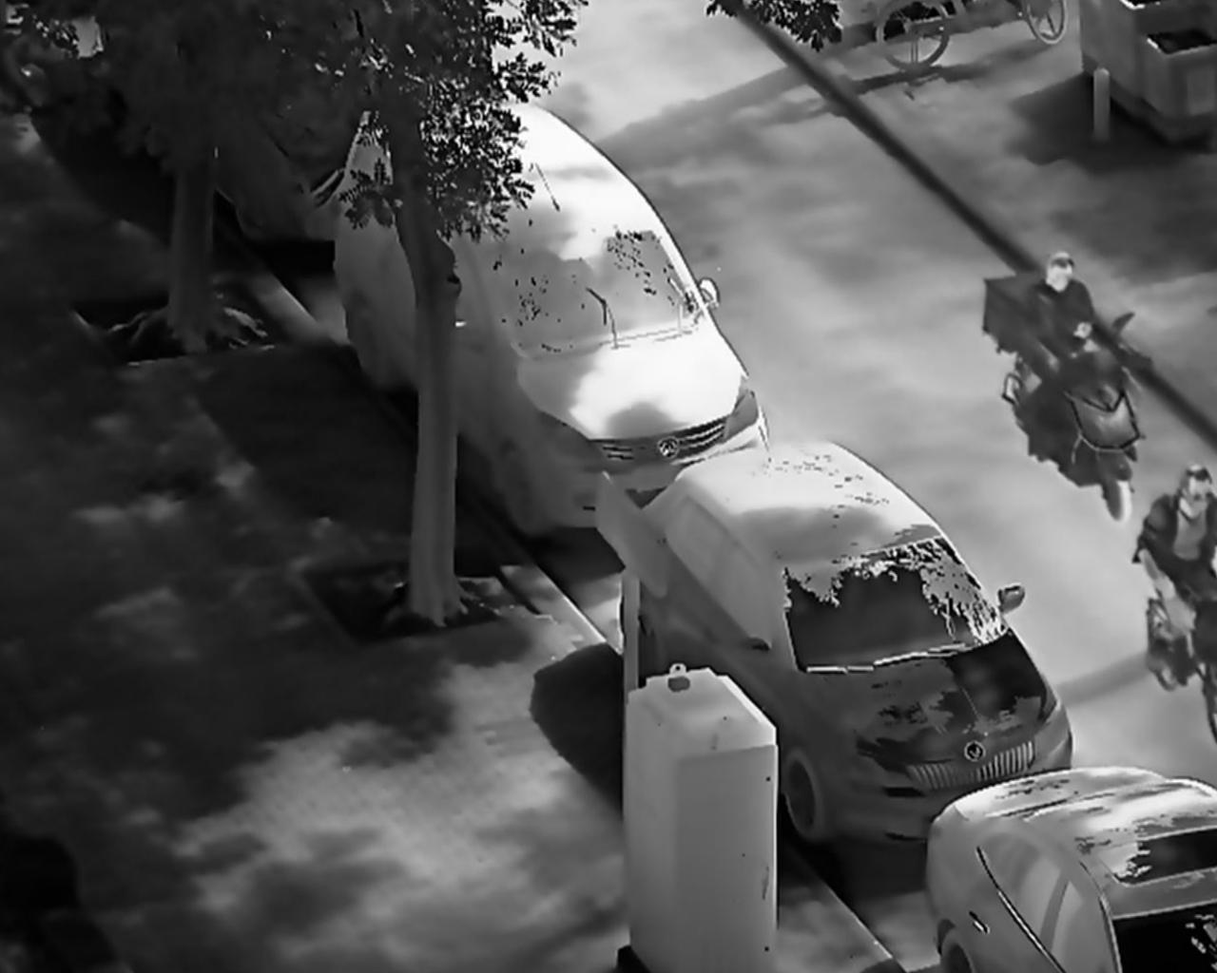person: (1133, 463, 1217, 692), (1014, 249, 1120, 397)
